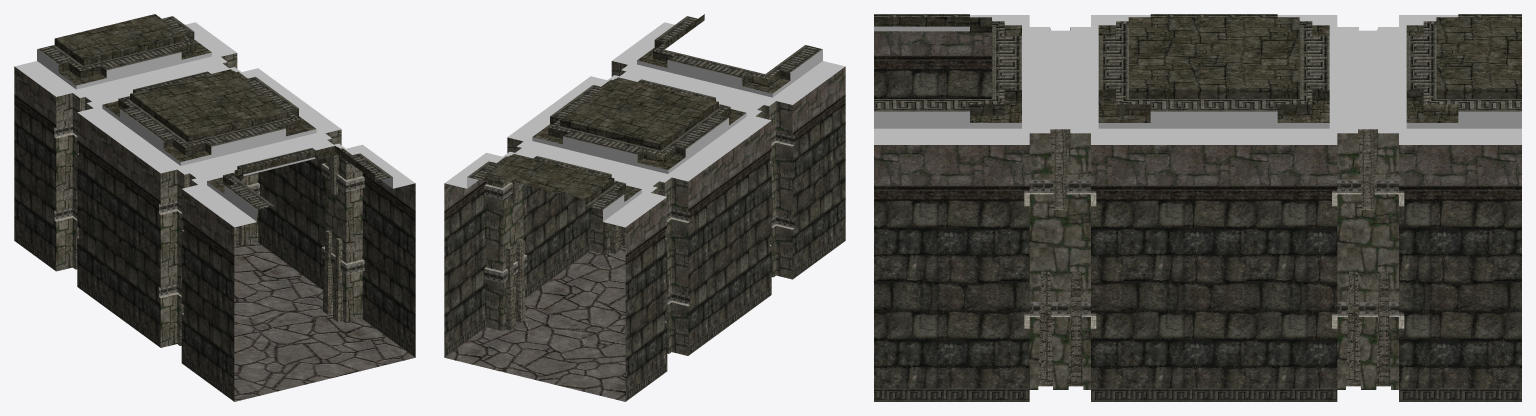
Rendered from thm_yavn_temple_exar_kun_r7_mesh_r7.fbx.
3 renders of one model, left to right at view 1: azimuth 30°, elevation 25°; view 2: azimuth 150°, elevation 25°; view 3: azimuth 270°, elevation 25°, orthographic. The views are drawn at different scales.
Parts seen in each view (by area): view 1: mesh_node; view 2: mesh_node; view 3: mesh_node.
Boxes of the visible parts, left/top/right/bottom form: mesh_node: left=14, top=14, right=415, bottom=401; mesh_node: left=444, top=14, right=845, bottom=401; mesh_node: left=874, top=14, right=1521, bottom=401.
Size of the model in its own units: 5 by 5.08 by 10.53.
